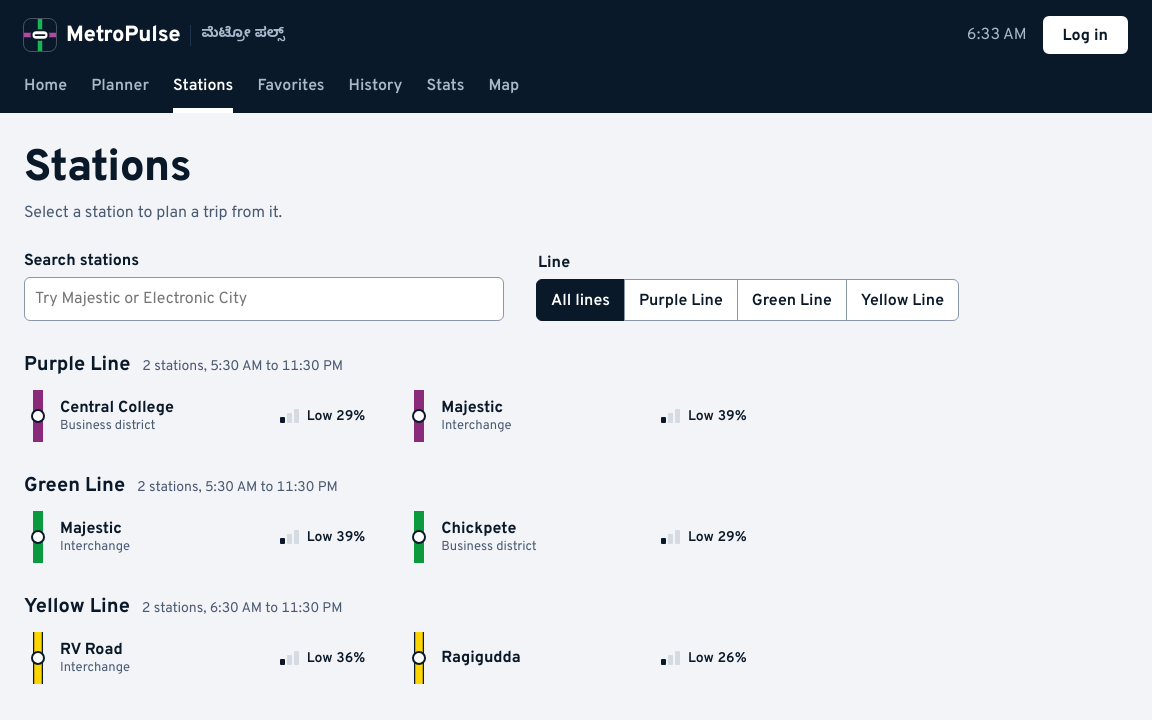
Scenario: station search filters the list
Type "chick" into the search field labelled "Search stations". click: (264, 299)
box: x1=24 y1=277 x2=504 y2=321
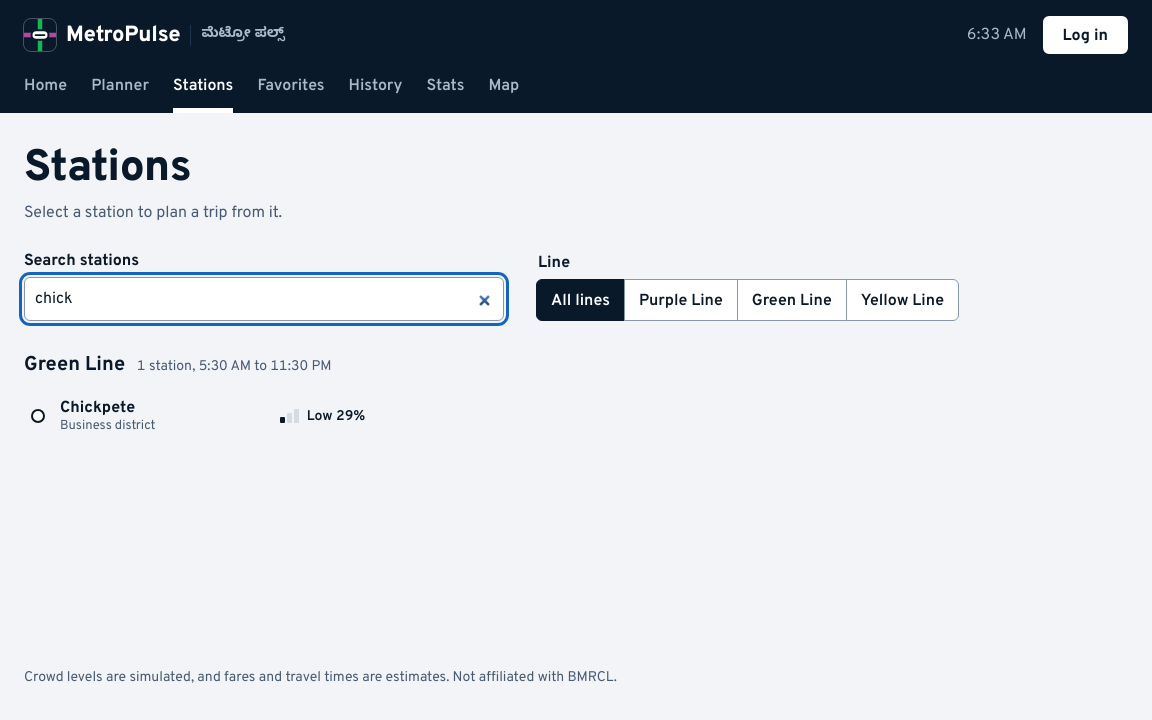
Expected: the link "Chickpete" is shown, x1=60 y1=398 x2=135 y2=418
Expected: the link "Ragigudda" is gone
Replace the text in the search field labelled "Search stations" with "zzz". click: (264, 299)
box: x1=24 y1=277 x2=504 y2=321
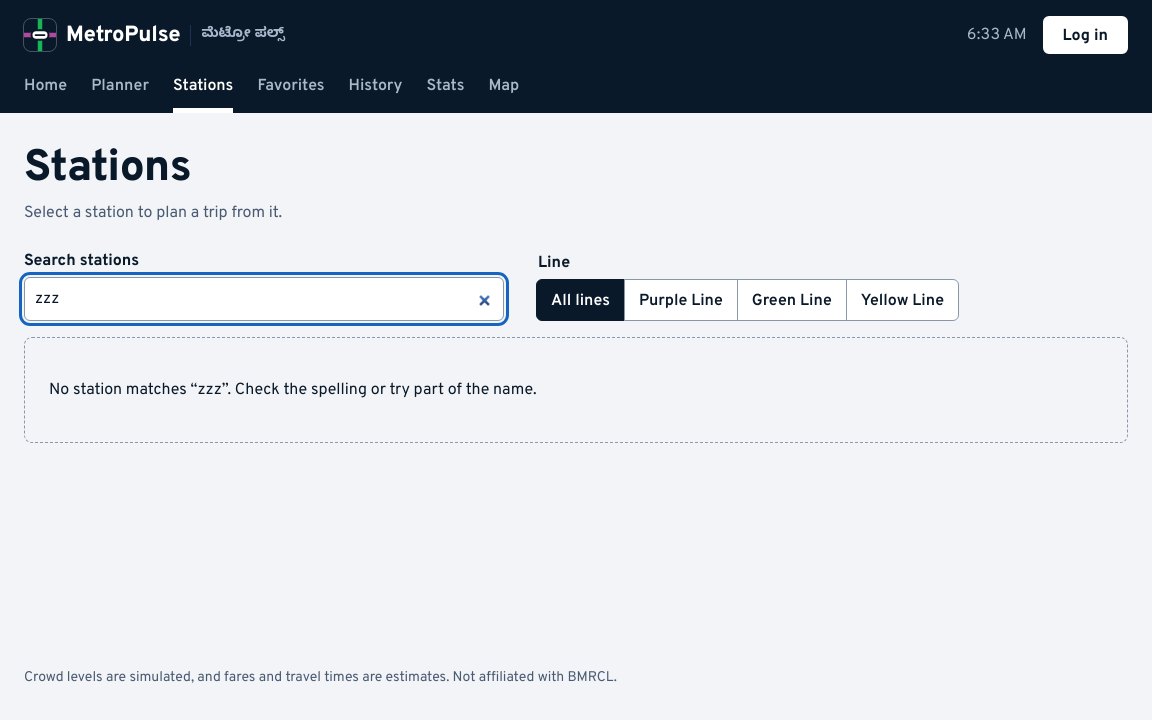
Expected: the text "No station matches" is shown, x1=49 y1=380 x2=198 y2=400
